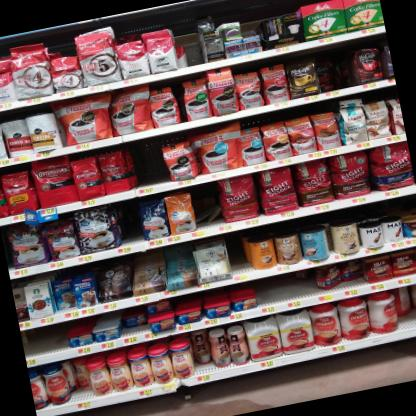empty_space: (125, 136, 170, 195), (256, 270, 306, 315), (20, 321, 71, 365), (112, 199, 147, 253), (224, 232, 251, 283), (181, 26, 209, 73)
